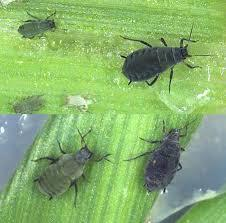insect: (117, 19, 221, 95), (27, 126, 115, 211), (122, 115, 200, 196), (14, 6, 61, 46), (6, 87, 51, 116)
